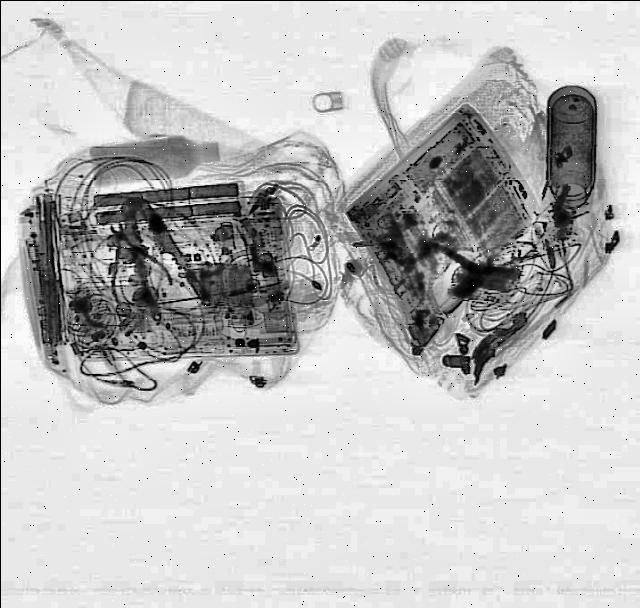Pliers: (98, 186, 212, 326)
